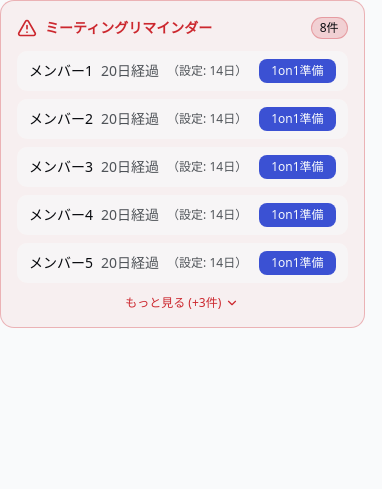
ReminderAlertBanner › 表示件数上限と「もっと見る」機能 › 「もっと見る」ボタンをクリックすると全件表示される
Click the button "もっと見る (+3件)". click: (182,303)
box: [125,295,239,311]
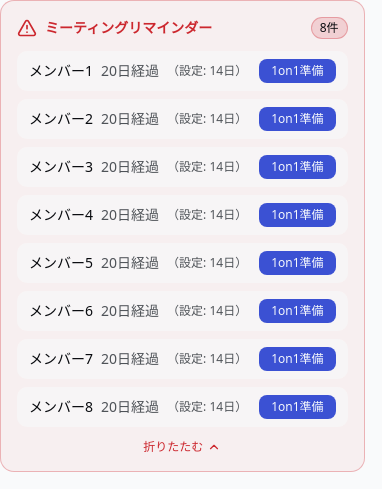
Result: the number of list items is 8
